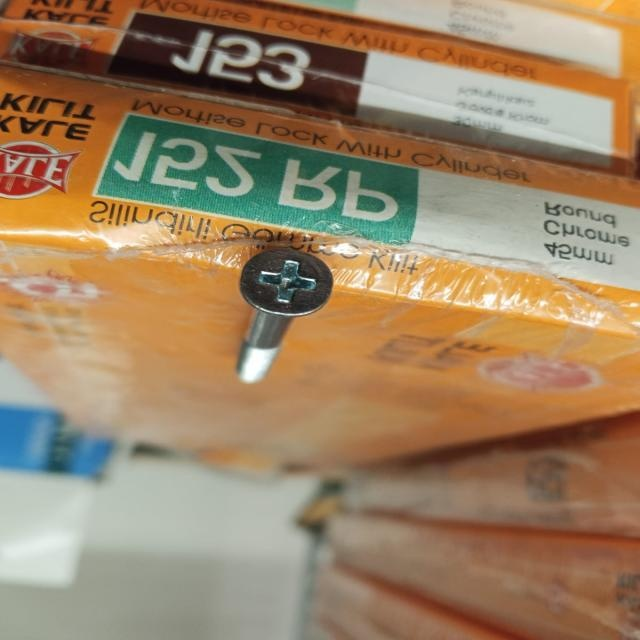phillips: (238, 247, 334, 315)
